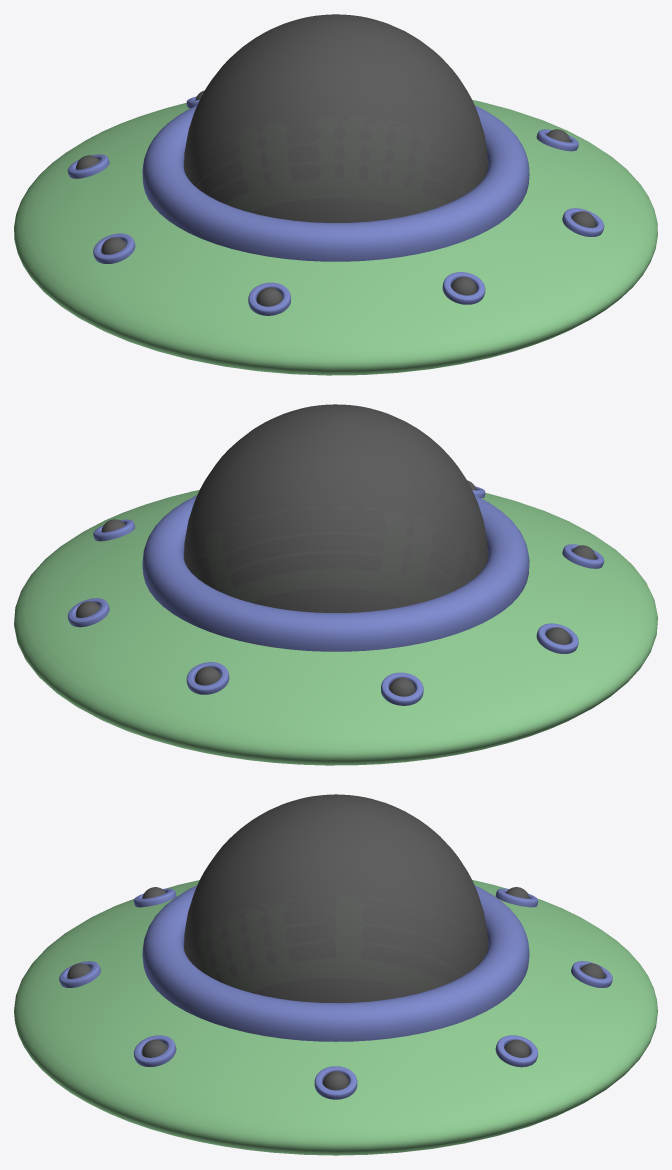
File: UFO-gaon.glb
3 views of the same model, one above another, from view 1: azimuth 30°, elevation 25°; view 2: azimuth 150°, elevation 25°; view 3: azimuth 270°, elevation 25° (orthographic).
Visible parts, largest first — view 1: Body19, Body2.001, Body1, Body11, Body3, Body10, Body5, Body9; view 2: Body19, Body2.001, Body1, Body9, Body8, Body10, Body7, Body11; view 3: Body19, Body2.001, Body1, Body6, Body7, Body5, Body3, Body8.
Boxes of the visible parts, x1,y1,x2,y2 form: Body19: (14,100,657,375); Body2.001: (184,14,487,222); Body1: (142,105,529,261); Body11: (248,282,290,315); Body3: (442,272,485,304); Body10: (93,233,135,263); Body5: (562,208,604,236); Body9: (67,154,109,178); Body19: (14,490,657,765); Body2.001: (184,404,487,612); Body1: (142,495,529,651); Body9: (381,672,423,705); Body8: (186,662,229,694); Body10: (536,623,578,653); Body7: (67,598,109,627); Body11: (562,544,604,568); Body19: (14,880,657,1155); Body2.001: (184,794,487,1002); Body1: (142,885,529,1041); Body6: (314,1066,357,1099); Body7: (495,1035,538,1067); Body5: (133,1035,176,1066); Body3: (59,961,100,987); Body8: (571,961,612,987).
Size of the model in its own units: 250 by 95.46 by 250.
